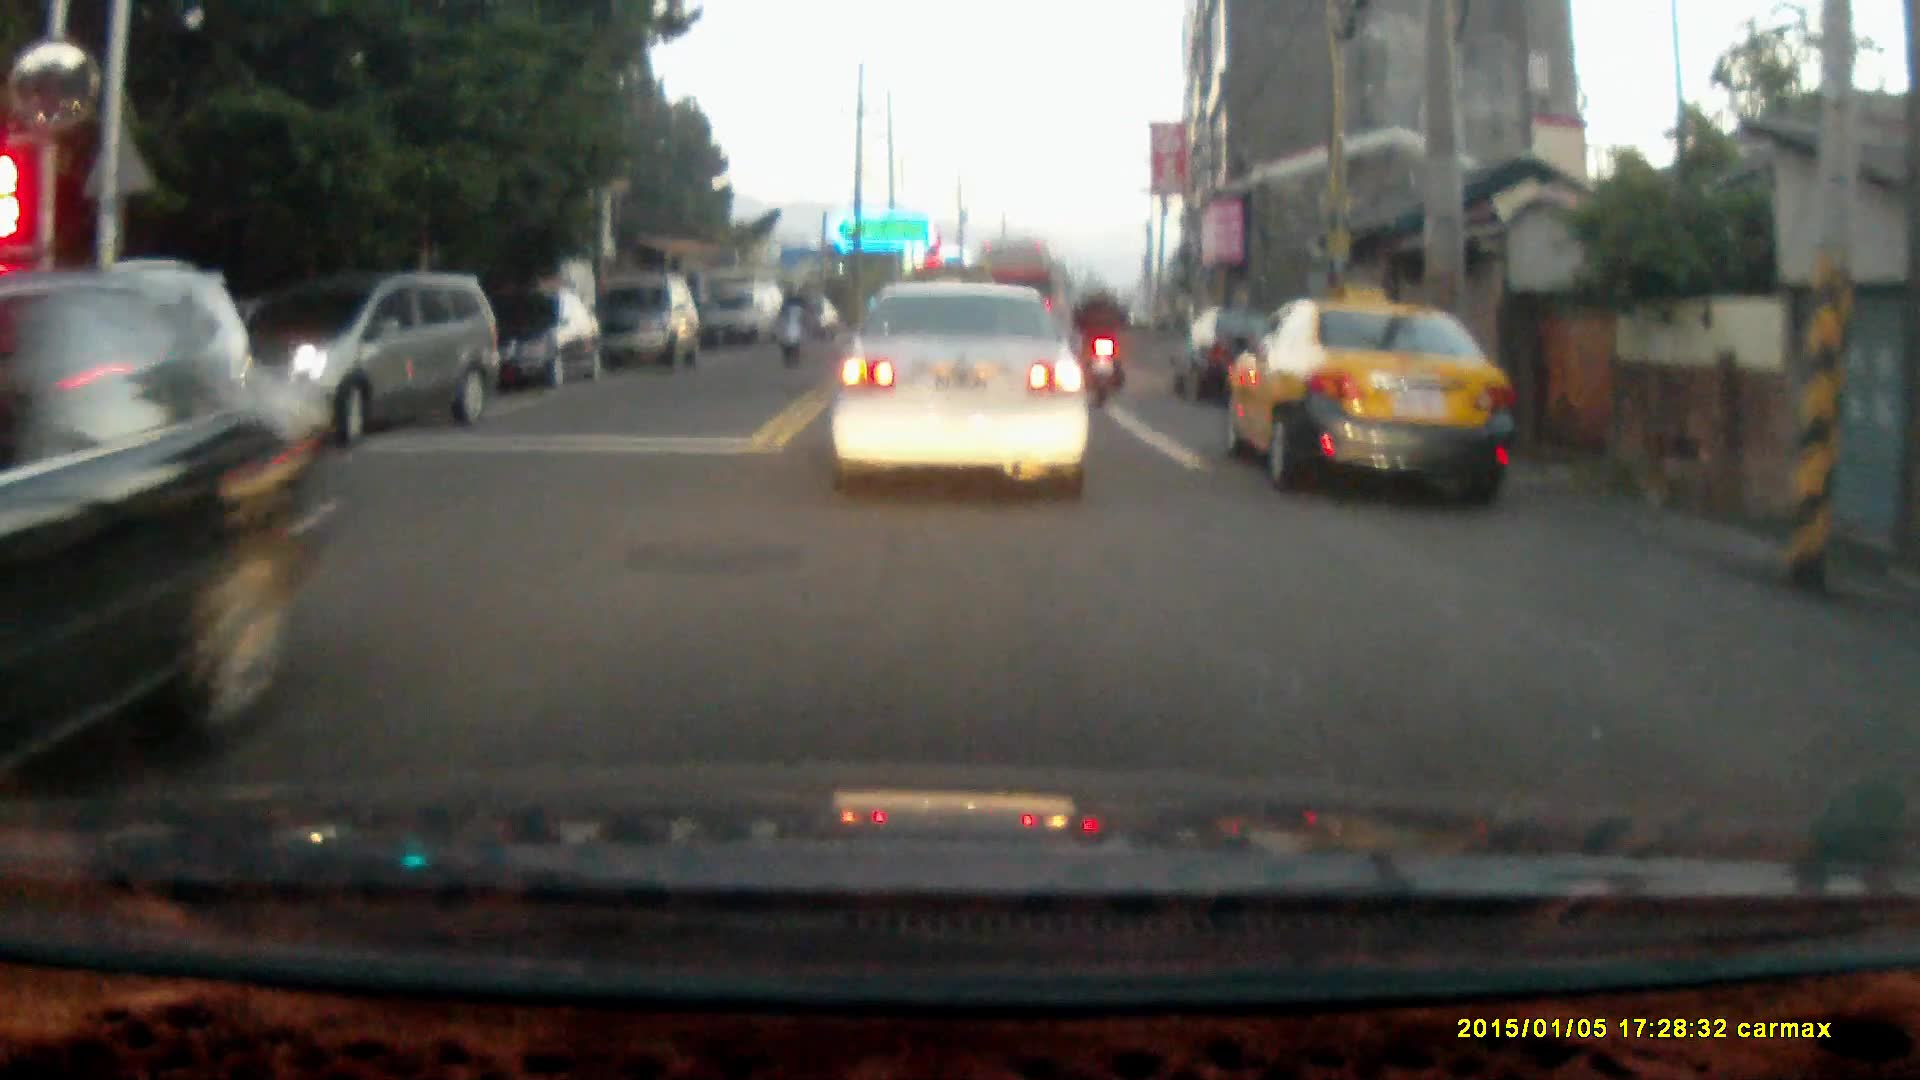rider: (1071, 276, 1130, 408), (774, 279, 809, 367)
vehicle: (1, 275, 335, 799), (1230, 297, 1519, 510), (827, 286, 1104, 500), (471, 289, 604, 394), (593, 276, 699, 372), (707, 282, 788, 354)
